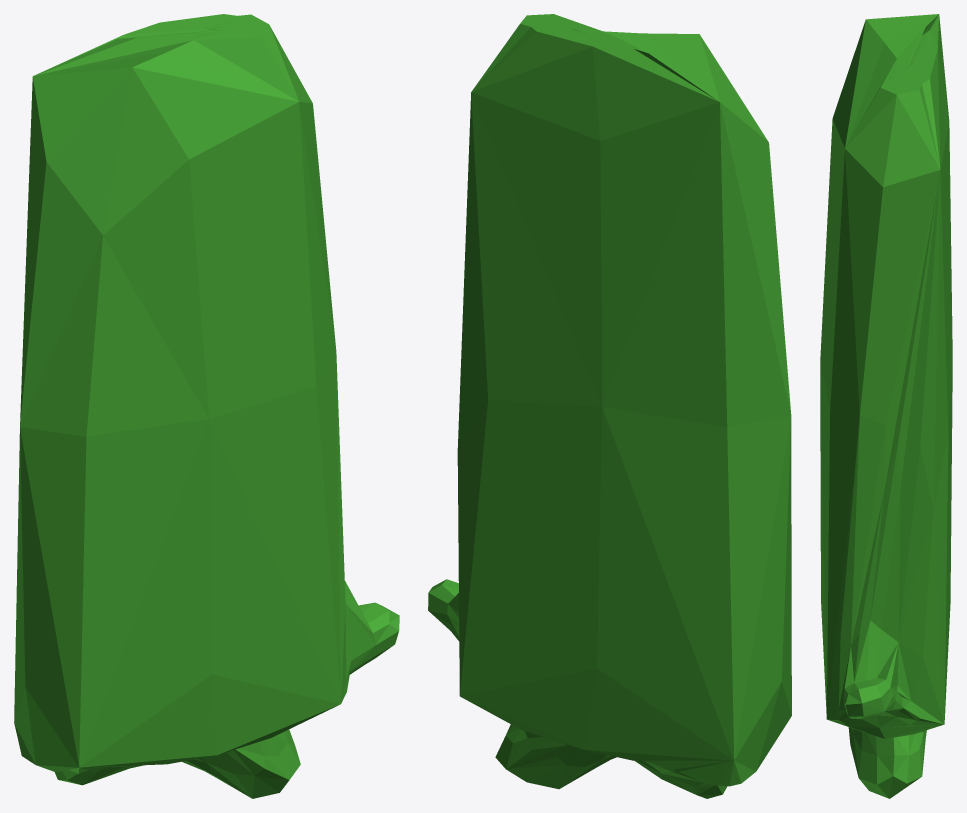
3 views of the same model, side by side, from view 1: azimuth 30°, elevation 25°; view 2: azimuth 150°, elevation 25°; view 3: azimuth 270°, elevation 25° (orthographic). The views are drawn at different scales.
Parts seen in each view (by area): view 1: 707_Cube.2841; view 2: 707_Cube.2841; view 3: 707_Cube.2841.
Boxes of the visible parts, bbox=[...] form: 707_Cube.2841: bbox=[14, 14, 399, 798]; 707_Cube.2841: bbox=[428, 14, 791, 798]; 707_Cube.2841: bbox=[820, 14, 952, 798].
Bounding box in the file's own units: 6.61 × 13.26 × 2.24.
